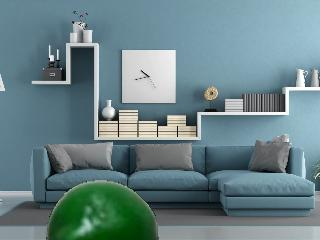lime: (47, 181, 158, 239)
